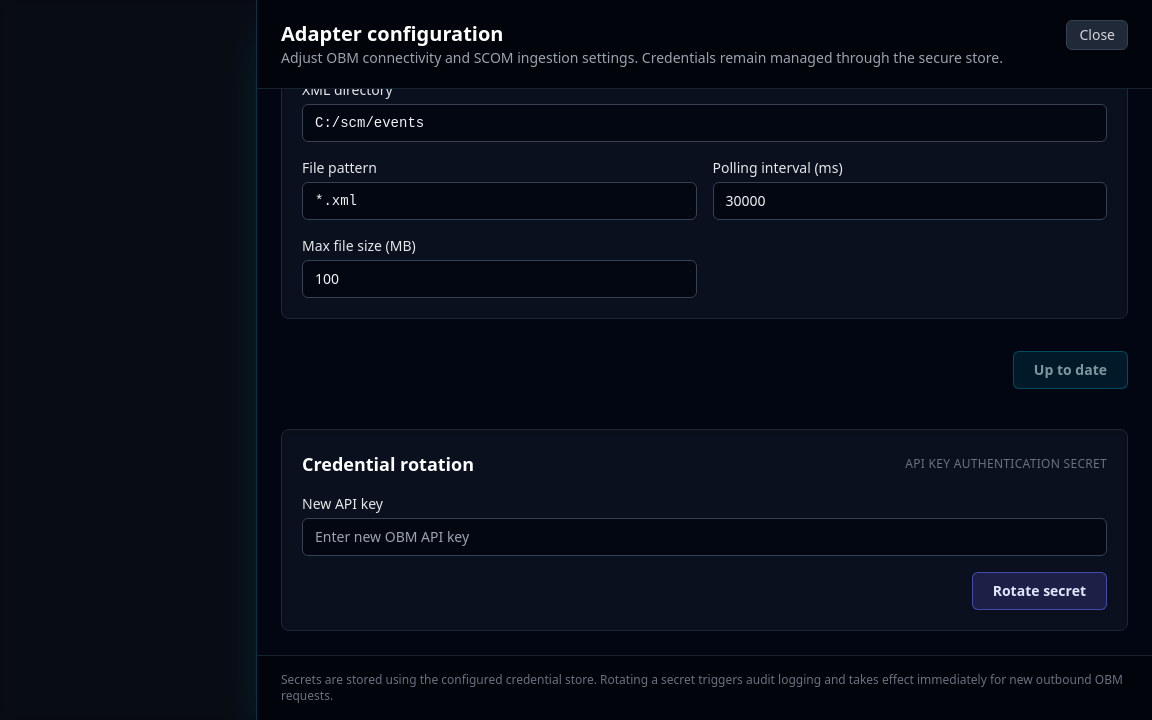
Test: ConfigDrawer › supports API key rotation workflow
This screenshot has width=1152, height=720.
(page scrolled)
Type "api-key-123" into the field with placeholder "Enter new OBM API key". click: (704,537)
box: [302,518,1107,556]
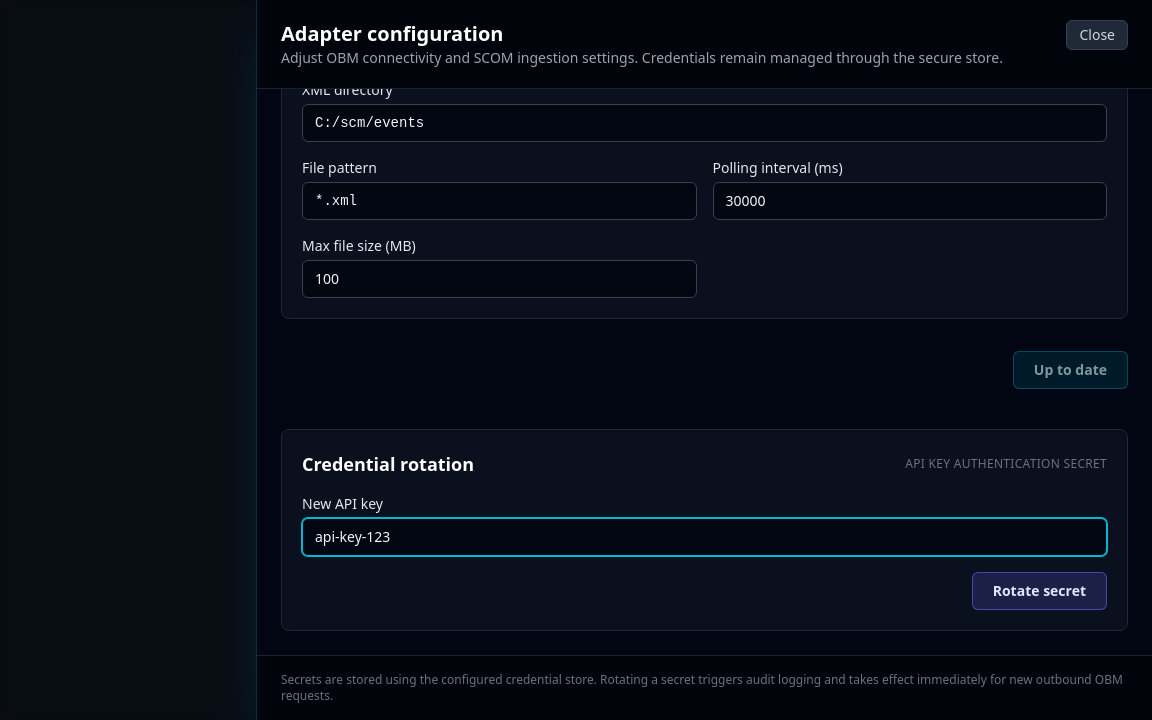
Click the button "Rotate secret". click: (1039,591)
box: [972,572,1107,610]
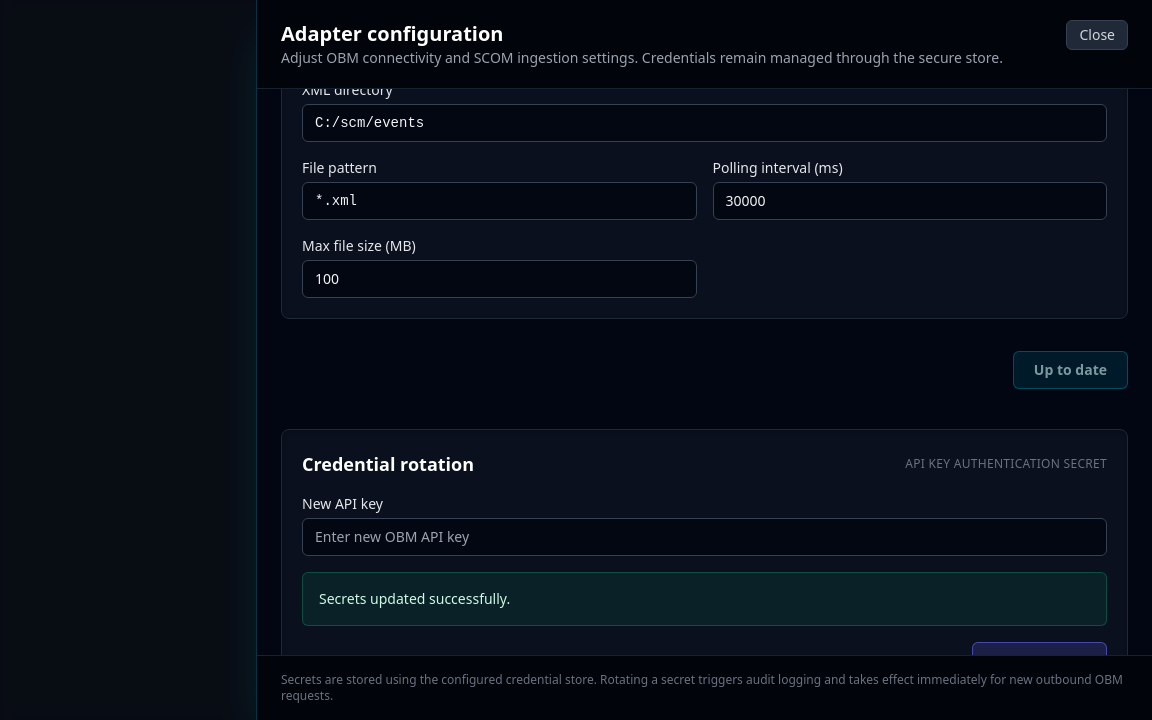
Expected: the text "Secrets updated successfully." is shown, [302,572,1107,626]
